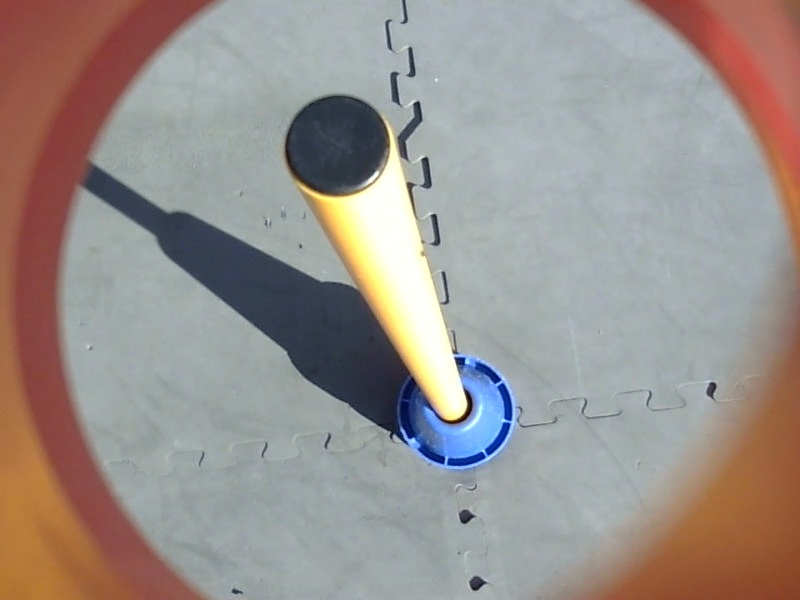tip: (279, 90, 398, 205)
